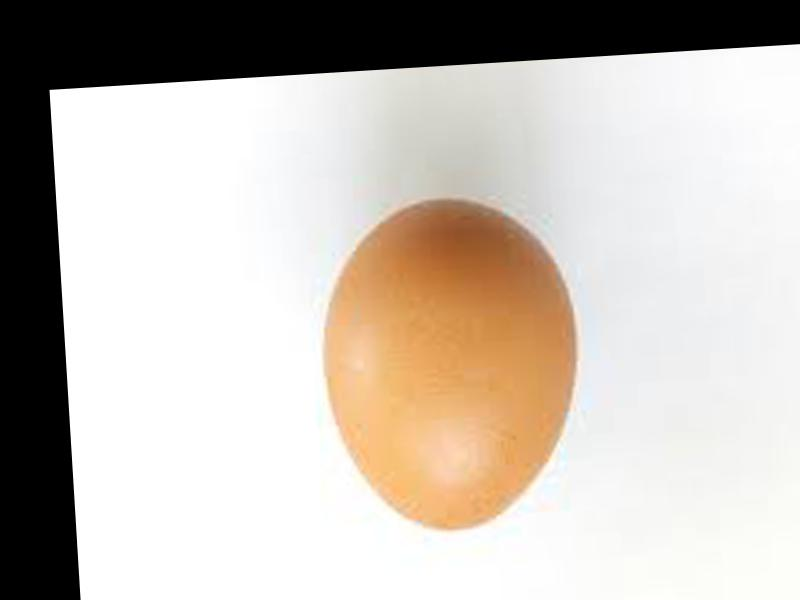Eggs: (316, 187, 590, 542)
